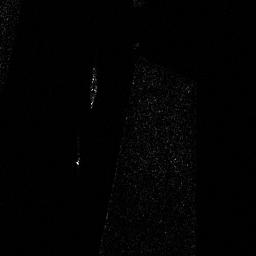ship: (88, 66, 98, 109)
